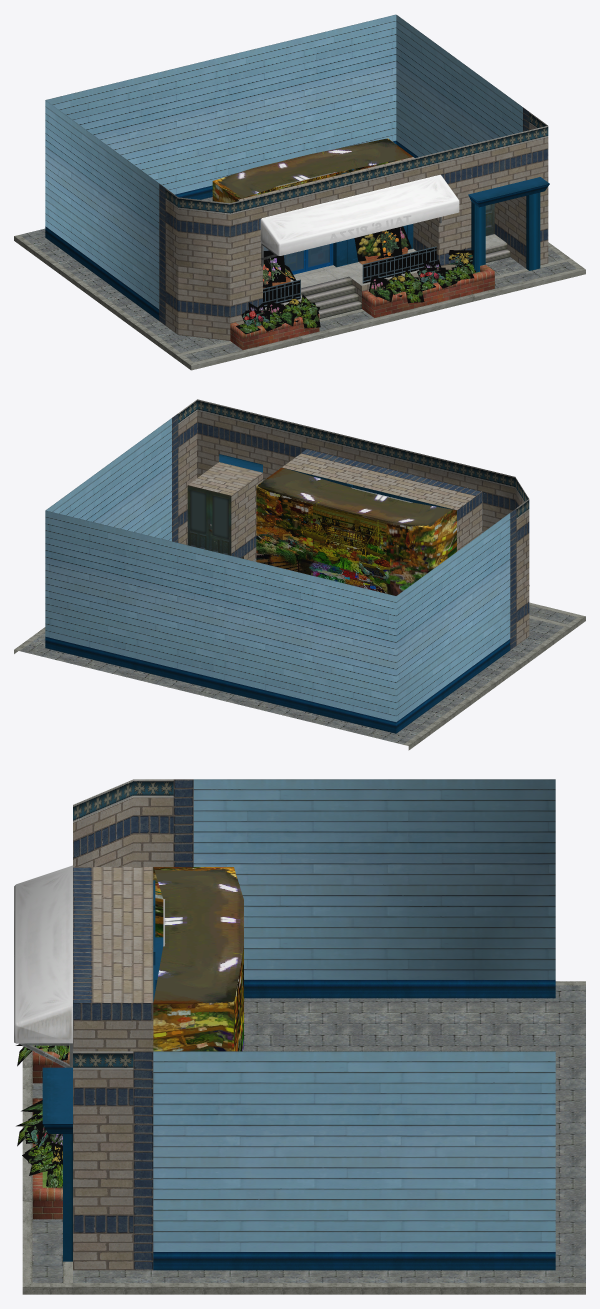
Rendered from HouseC_Base-0.obj.
The picture shows the model from 3 angles, top to bottom: view 1: azimuth 30°, elevation 25°; view 2: azimuth 150°, elevation 25°; view 3: azimuth 270°, elevation 25°; orthographic projection. The views are drawn at different scales.
Parts seen in each view (by area): view 1: HouseC_Base-0; view 2: HouseC_Base-0; view 3: HouseC_Base-0.
Part boxes in pixels (x1,y1,x2,y2): HouseC_Base-0: [14, 14, 585, 370]; HouseC_Base-0: [14, 399, 585, 750]; HouseC_Base-0: [14, 779, 585, 1294].
Size of the model in its own units: 19.8 by 6.82 by 15.64.
